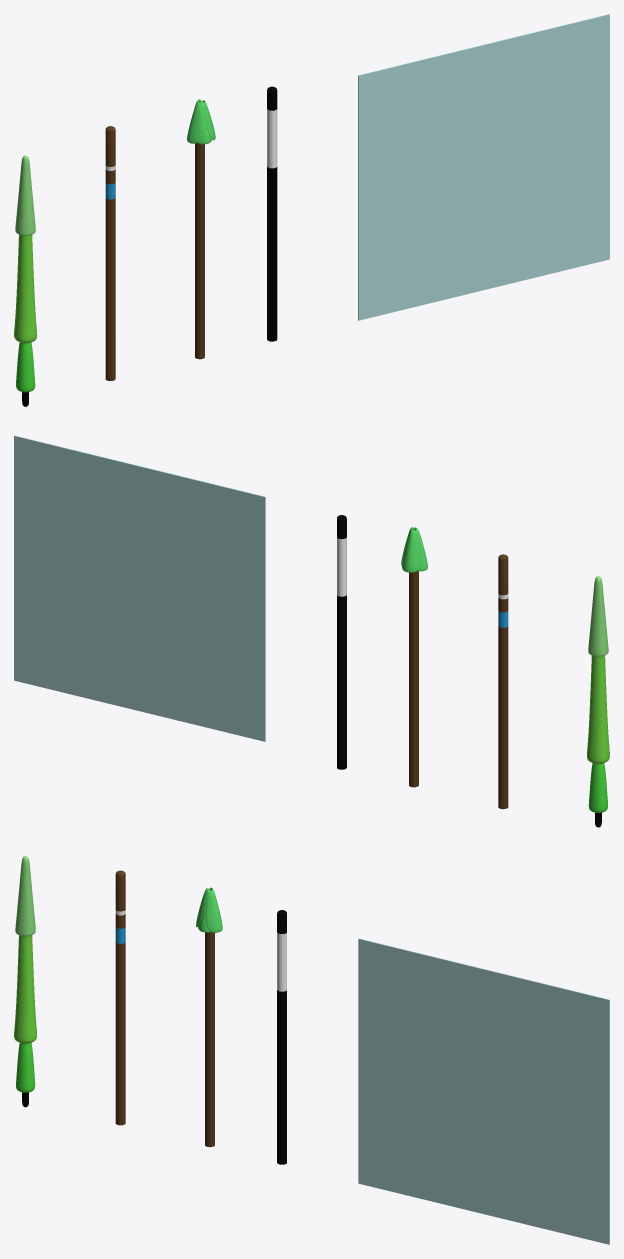
The model's file is Curtain.fbx.
3 views of the same model, one above another, from view 1: azimuth 30°, elevation 25°; view 2: azimuth 150°, elevation 25°; view 3: azimuth 330°, elevation 25° (orthographic).
Parts seen in each view (by area): view 1: screen, Stick, Stick.002, Stick.001, Stick.003; view 2: screen, Stick, Stick.002, Stick.001, Stick.003; view 3: screen, Stick, Stick.002, Stick.001, Stick.003.
Part boxes in pixels (box(x1,y1,x2,y2)): screen: box(358, 14, 609, 320); Stick: box(14, 155, 37, 406); Stick.002: box(187, 99, 215, 359); Stick.001: box(105, 126, 115, 380); Stick.003: box(267, 86, 277, 341); screen: box(14, 435, 265, 741); Stick: box(587, 576, 609, 827); Stick.002: box(401, 527, 427, 787); Stick.001: box(498, 554, 508, 809); Stick.003: box(337, 515, 346, 769); screen: box(358, 938, 609, 1244); Stick: box(14, 856, 36, 1107); Stick.002: box(196, 887, 222, 1147); Stick.001: box(115, 870, 125, 1125); Stick.003: box(277, 910, 286, 1164).
Size of the model in its own units: 593 by 247 by 30.94.
